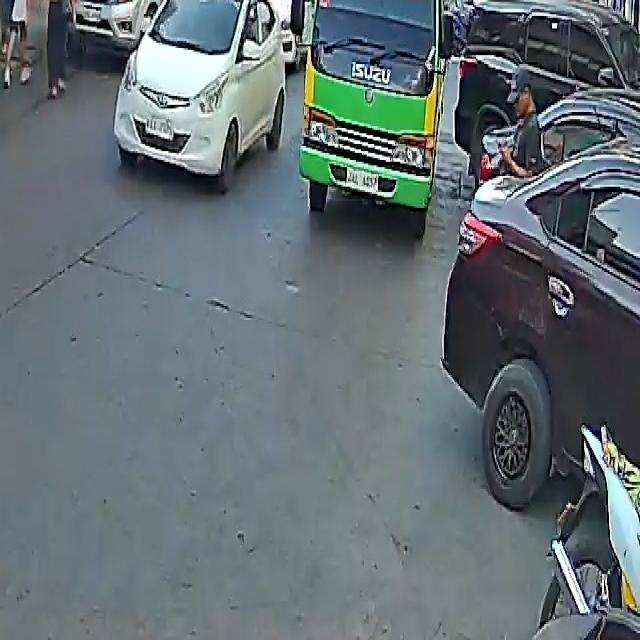car: (445, 85, 640, 528), (455, 0, 639, 192), (113, 0, 294, 183), (70, 0, 203, 52), (244, 0, 319, 57)
